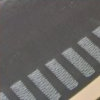crosswalk: (0, 25, 99, 100)
